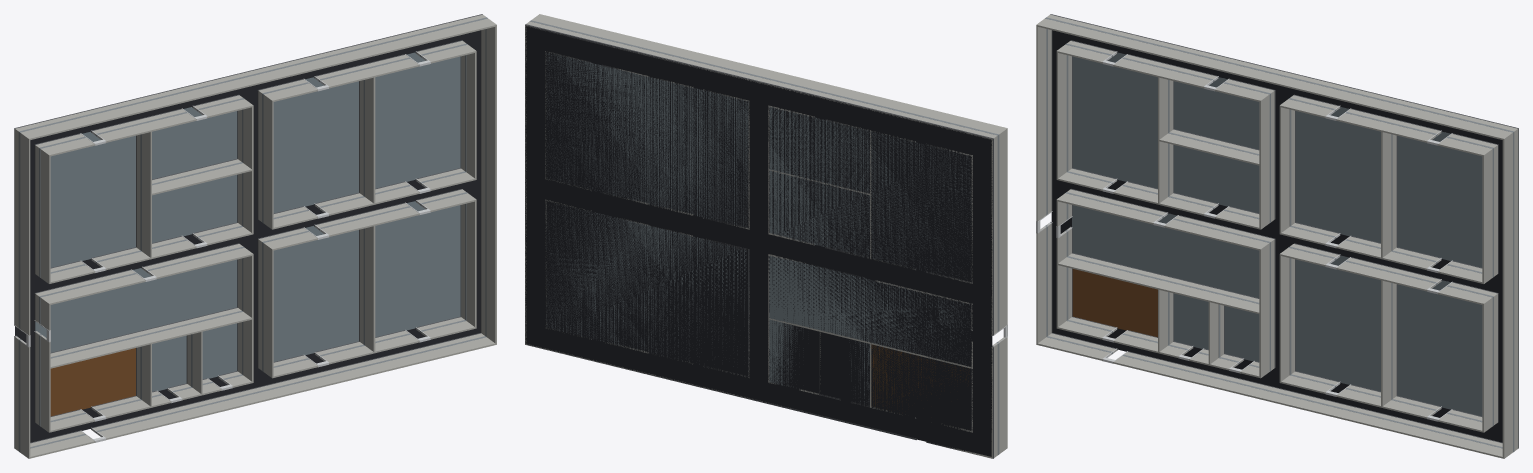
Rendered from hospital_estrutura.obj.
3 renders of one model, left to right at view 1: azimuth 30°, elevation 25°; view 2: azimuth 150°, elevation 25°; view 3: azimuth 330°, elevation 25°, orthographic.
Parts seen in each view (by area): view 1: estrutura; view 2: estrutura; view 3: estrutura.
Boxes of the visible parts, left/top/right/bottom form: estrutura: left=14, top=14, right=496, bottom=458; estrutura: left=525, top=14, right=1007, bottom=458; estrutura: left=1036, top=14, right=1518, bottom=458.
Bounding box in the file's own units: 46.18 × 30.17 × 2.5.
